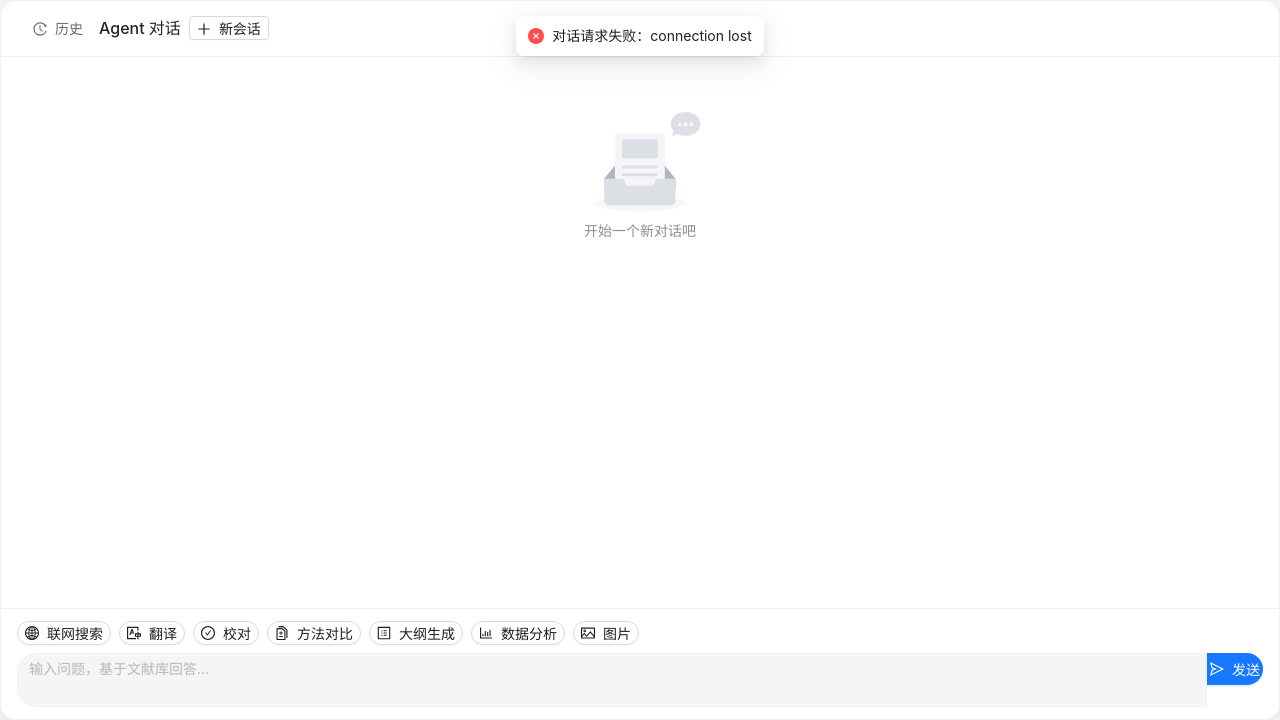
Scenario: ChatPanel operation lifecycle › finished 原子替换 provisional 正文并展示实际引用
This screenshot has width=1280, height=720.
In the text box with placeholder "输入问题，基于文献库回答...": (612, 680) [17, 653, 1207, 707], type "引用问题"
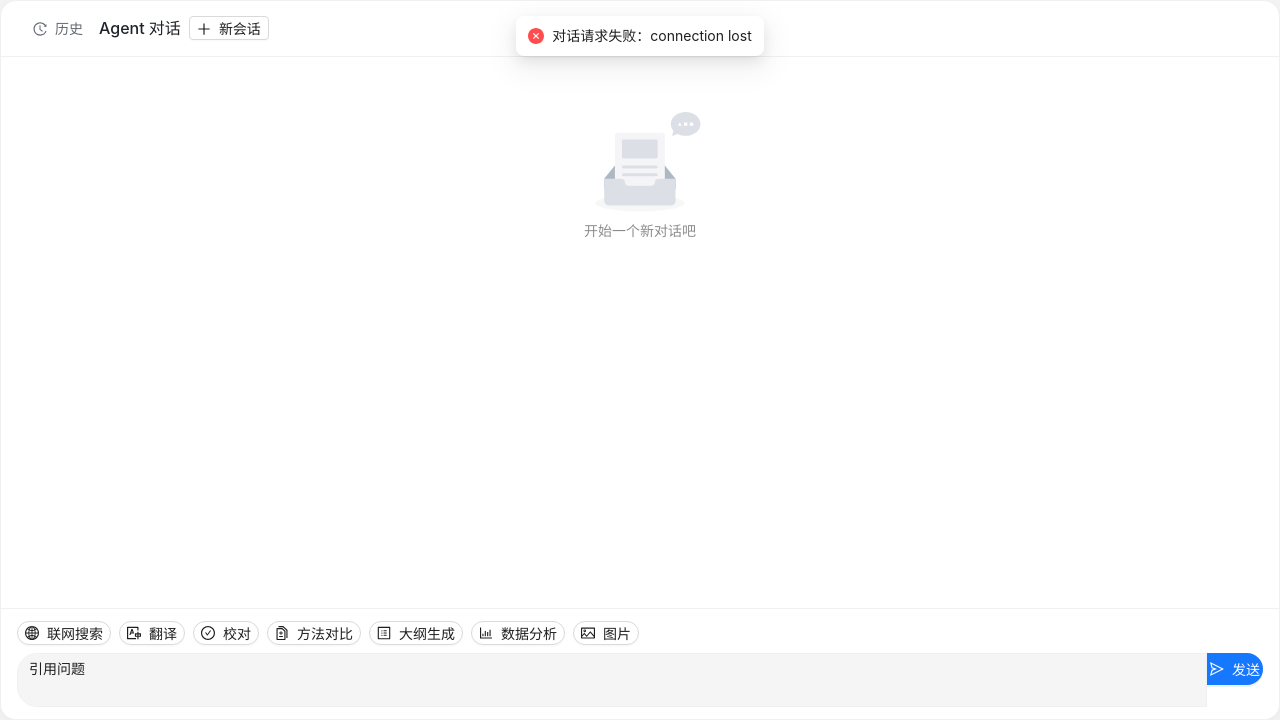
Click the button "发送": (1235, 669) [1207, 653, 1263, 685]
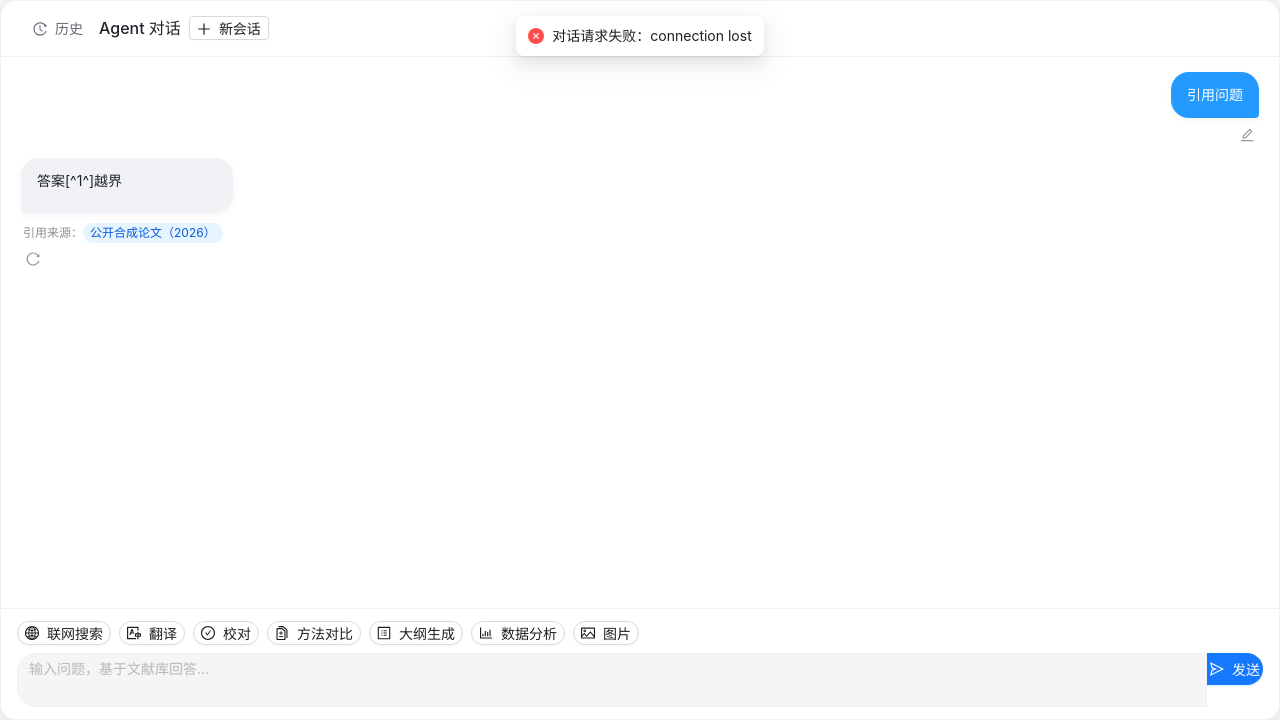
Expected: the text "答案[^1^]越界" is shown, [37, 172, 122, 189]
Expected: the text "公开合成论文（2026）" is shown, [83, 223, 223, 243]
